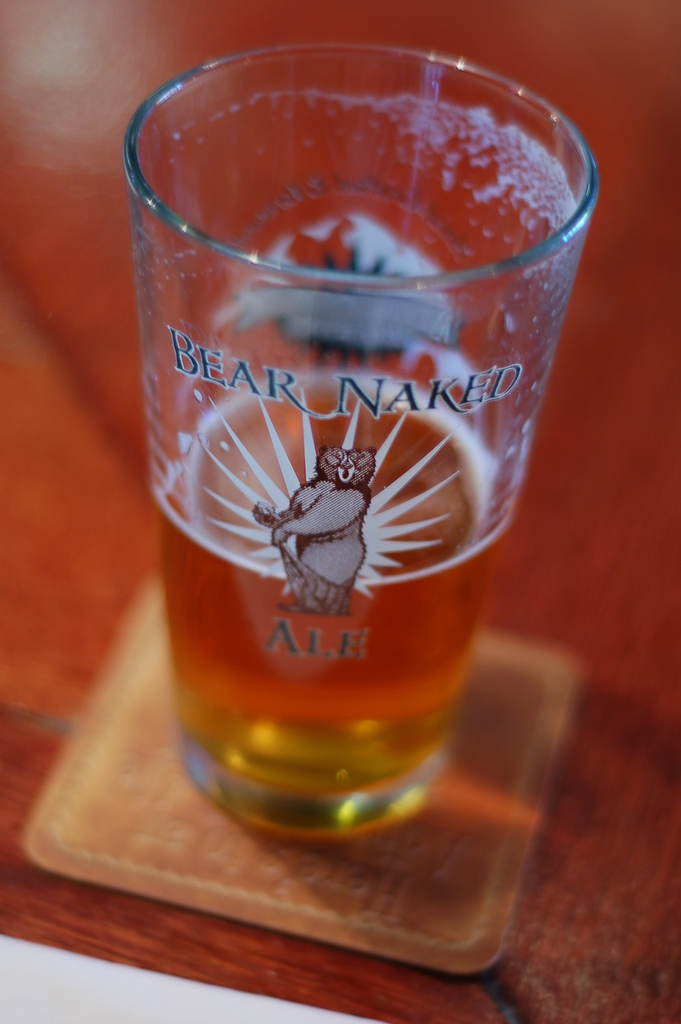Beer: (157, 375, 516, 828)
